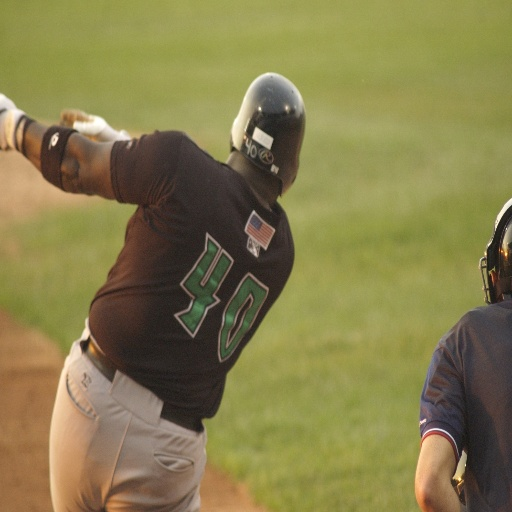hand: (59, 105, 115, 136), (0, 87, 20, 150)
